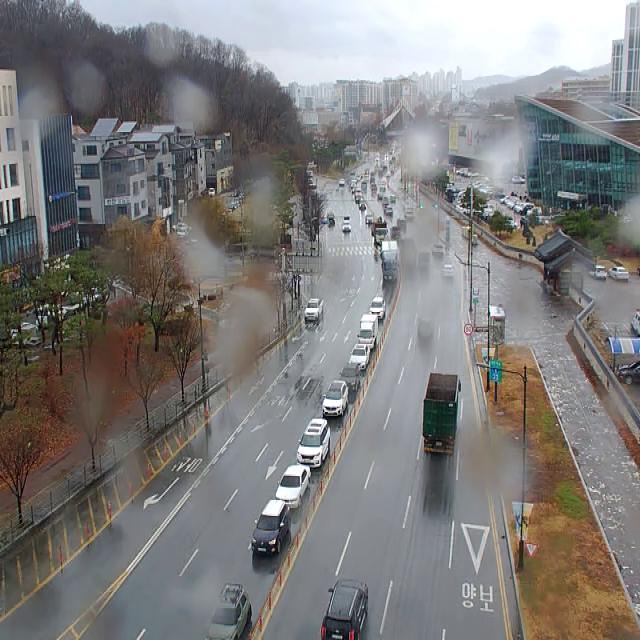Car: (321, 579, 368, 640), (205, 582, 251, 640), (251, 500, 288, 556), (297, 418, 330, 468), (276, 466, 311, 509), (322, 381, 348, 416), (340, 362, 360, 393), (618, 360, 640, 385), (348, 344, 369, 369), (305, 298, 323, 321), (374, 222, 388, 246), (370, 298, 385, 318), (588, 265, 607, 280), (608, 267, 628, 280), (442, 264, 454, 279), (397, 218, 406, 232), (391, 226, 400, 238), (342, 221, 351, 232), (327, 213, 334, 226), (365, 214, 373, 224), (359, 201, 366, 210), (355, 196, 364, 203), (209, 188, 215, 196), (637, 267, 640, 276)
Truck: (423, 373, 462, 455), (357, 314, 378, 348), (382, 241, 398, 281), (631, 309, 640, 336)
